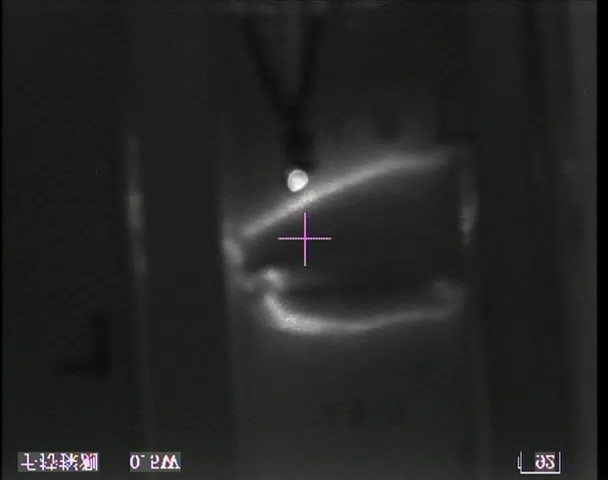my: (283, 167, 312, 195)
